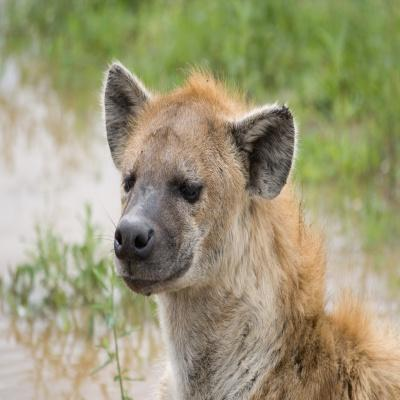hyenas: (46, 56, 400, 400)
